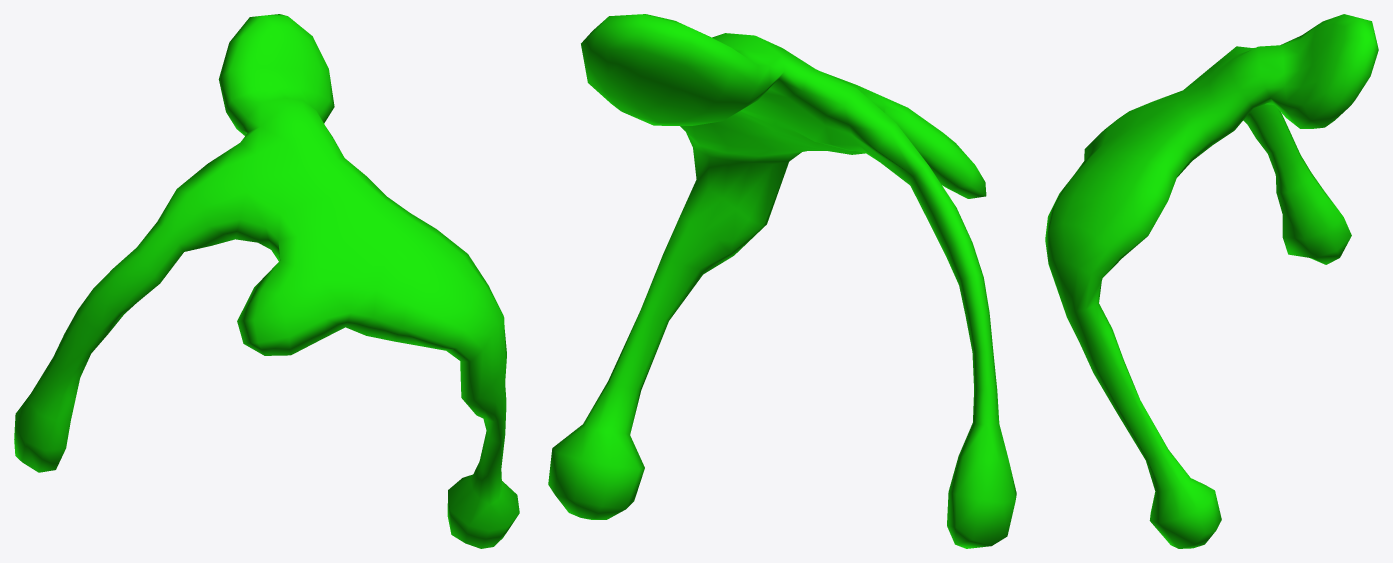
The model's file is p_lorenzo_hairgoop02.fbx.
3 renders of one model, left to right at view 1: azimuth 30°, elevation 25°; view 2: azimuth 150°, elevation 25°; view 3: azimuth 270°, elevation 25°, orthographic. The views are drawn at different scales.
Visible parts, largest first — view 1: p_lorenzo_hairgoop02; view 2: p_lorenzo_hairgoop02; view 3: p_lorenzo_hairgoop02.
Part boxes in pixels (<box>): p_lorenzo_hairgoop02: <box>14,14,519,548</box>; p_lorenzo_hairgoop02: <box>548,14,1016,548</box>; p_lorenzo_hairgoop02: <box>1045,14,1378,548</box>.
Size of the model in its own units: 1.07 by 1.18 by 0.7664.
